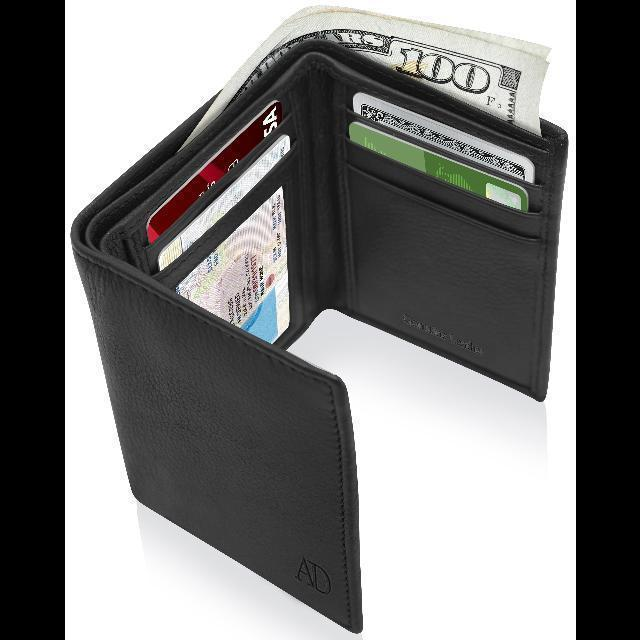wallet: (71, 33, 568, 632)
